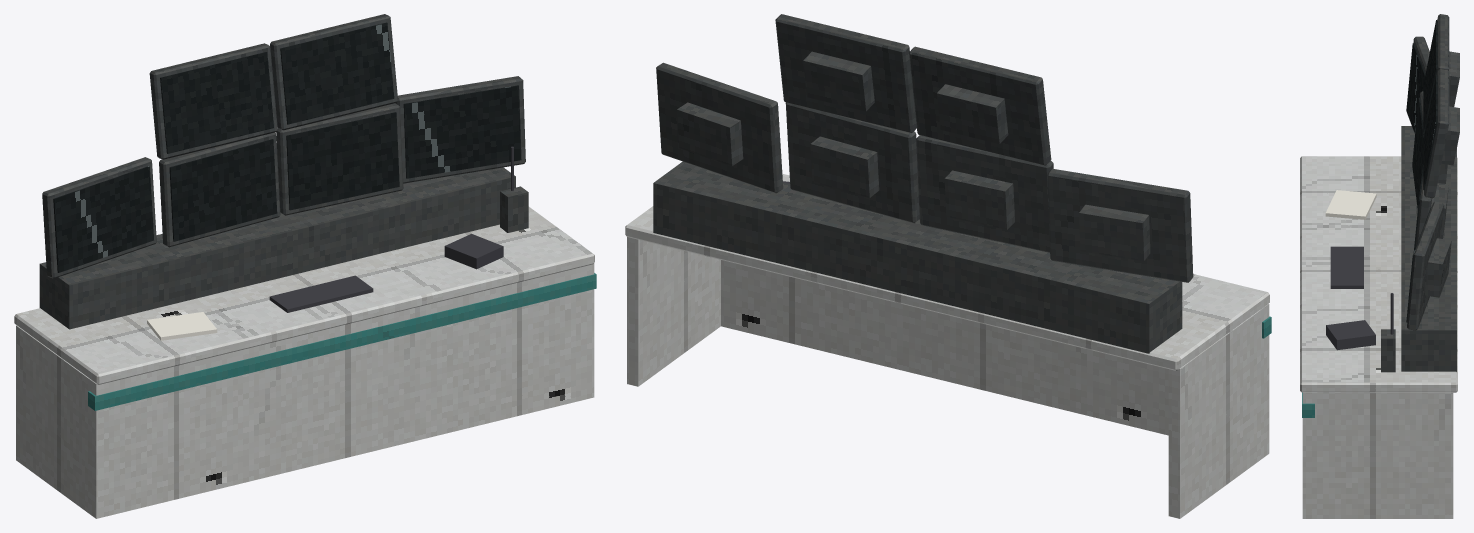
The model's file is security_desk.glb.
3 renders of one model, left to right at view 1: azimuth 30°, elevation 25°; view 2: azimuth 150°, elevation 25°; view 3: azimuth 270°, elevation 25°, orthographic. The views are drawn at different scales.
Visible parts, largest first — view 1: body, screens_dead; view 2: body; view 3: body, screens_dead.
Part boxes in pixels (x1,y1,x2,y2): body: (14, 14, 596, 518); screens_dead: (53, 22, 521, 272); body: (625, 14, 1271, 518); body: (1300, 14, 1459, 518); screens_dead: (1406, 20, 1437, 322).
Bounding box in the file's own units: 2.92 × 2 × 0.8607.
7 materials, 5 textured.
